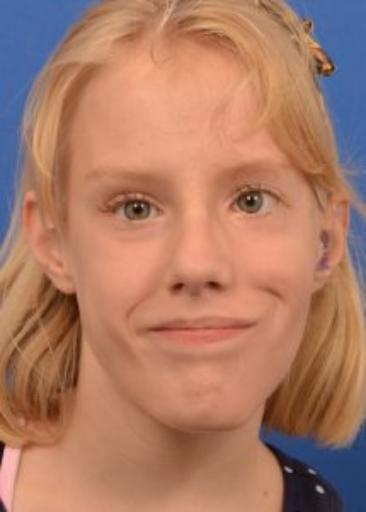left_eye: (230, 187, 284, 217)
left_lip_corner: (241, 318, 261, 332)
right_eye: (106, 195, 166, 225)
right_lip_corner: (141, 322, 158, 337)
